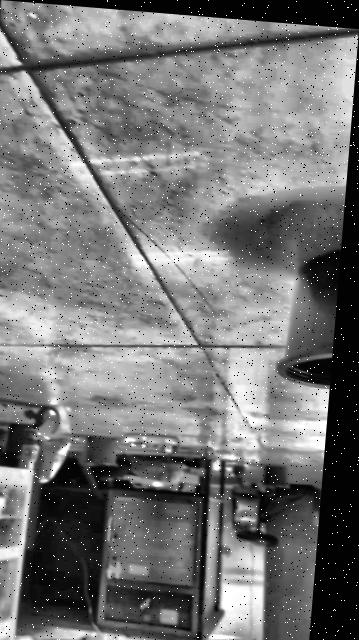pot: (276, 242, 341, 387)
